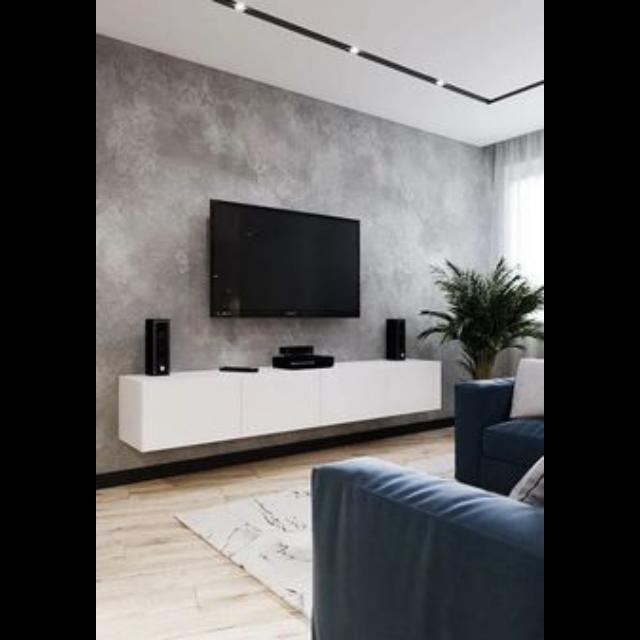Flat-Panel-TV: (194, 172, 396, 342)
